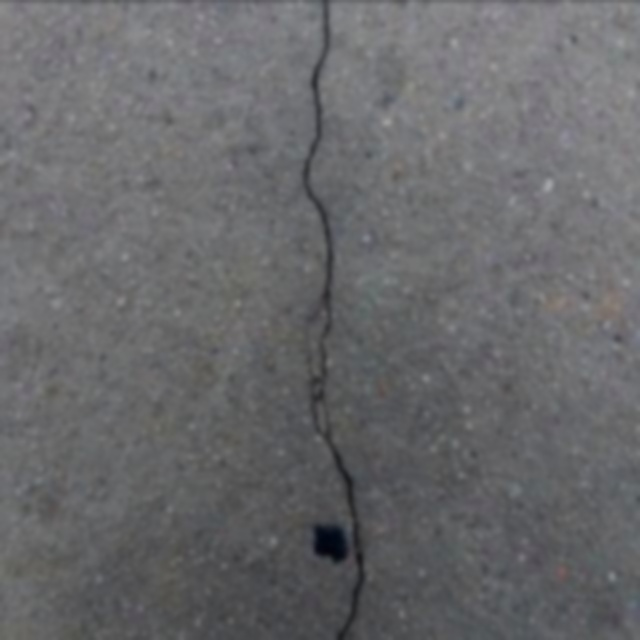SurfaceCrack: (276, 0, 382, 634)
